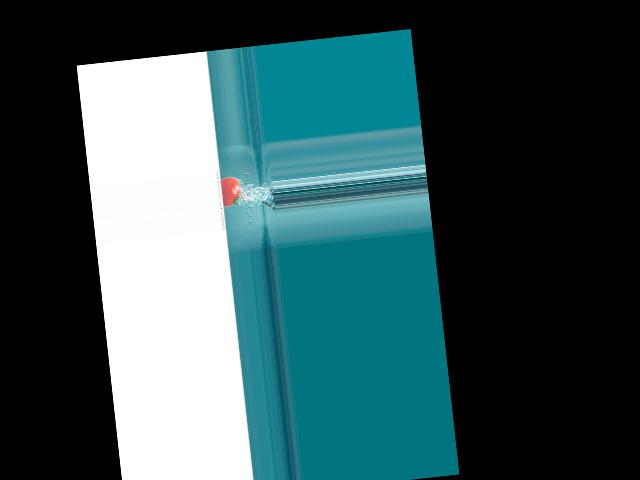tomato: (220, 176, 242, 207)
